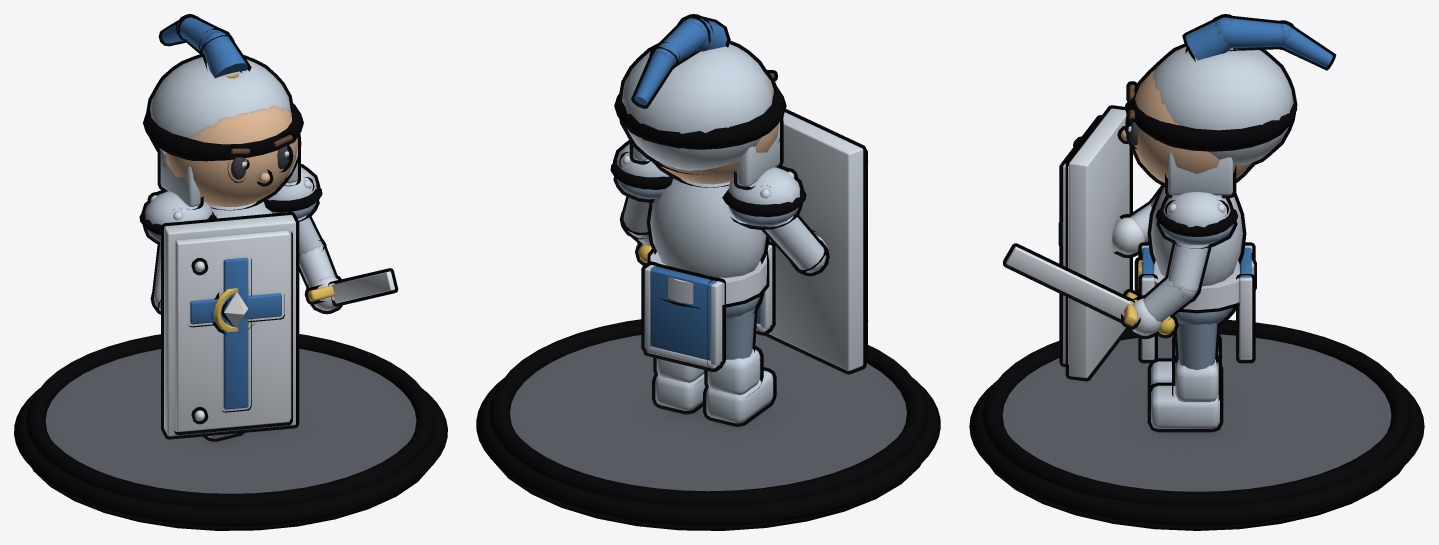
File: shield_guard_s2.fbx
3 views of the same model, side by side, from view 1: azimuth 30°, elevation 25°; view 2: azimuth 150°, elevation 25°; view 3: azimuth 270°, elevation 25° (orthographic). The views are drawn at different scales.
Parts seen in each view (by area): view 1: shield_guard_s2; view 2: shield_guard_s2; view 3: shield_guard_s2.
Boxes of the visible parts, <box> form: shield_guard_s2: <box>14,14,447,530</box>; shield_guard_s2: <box>476,14,940,530</box>; shield_guard_s2: <box>969,14,1424,530</box>.
Size of the model in its own units: 1.58 by 1.62 by 1.58.
Materials: 2 (1 with a texture image).
